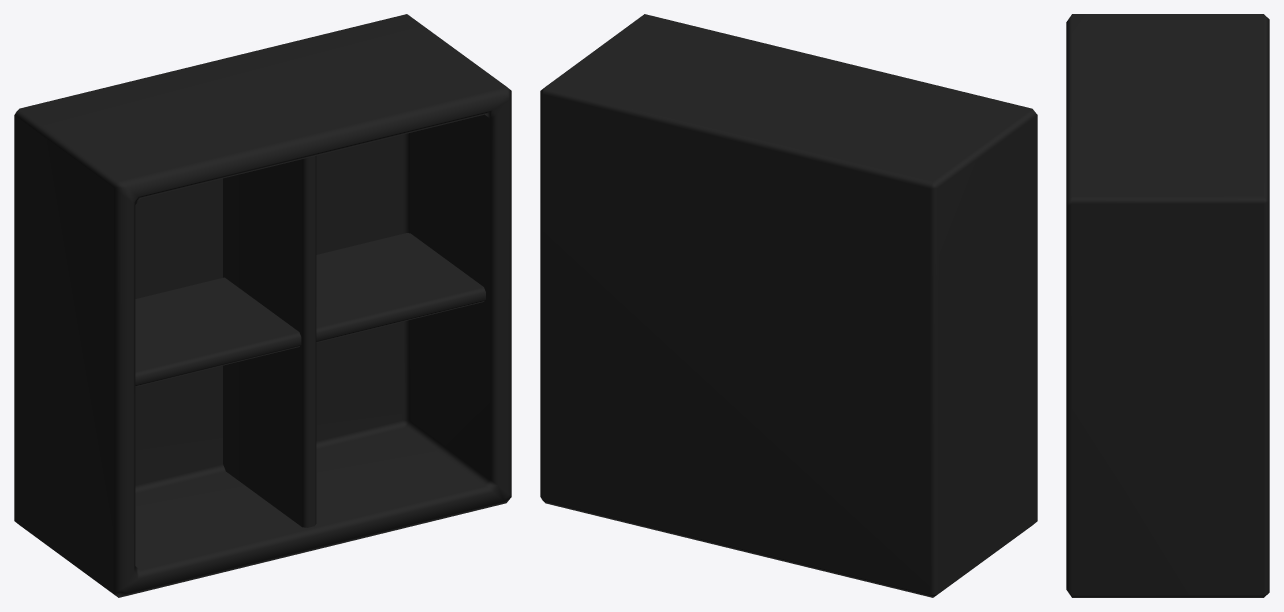
File: dresser_027.fbx
The picture shows the model from 3 angles, left to right: view 1: azimuth 30°, elevation 25°; view 2: azimuth 150°, elevation 25°; view 3: azimuth 270°, elevation 25°; orthographic projection. The views are drawn at different scales.
Parts seen in each view (by area): view 1: dresser_027; view 2: dresser_027; view 3: dresser_027.
Part boxes in pixels (<box>): dresser_027: <box>14,14,511,597</box>; dresser_027: <box>540,14,1037,597</box>; dresser_027: <box>1066,14,1269,597</box>.
Size of the model in its own units: 122 by 55.94 by 122.
